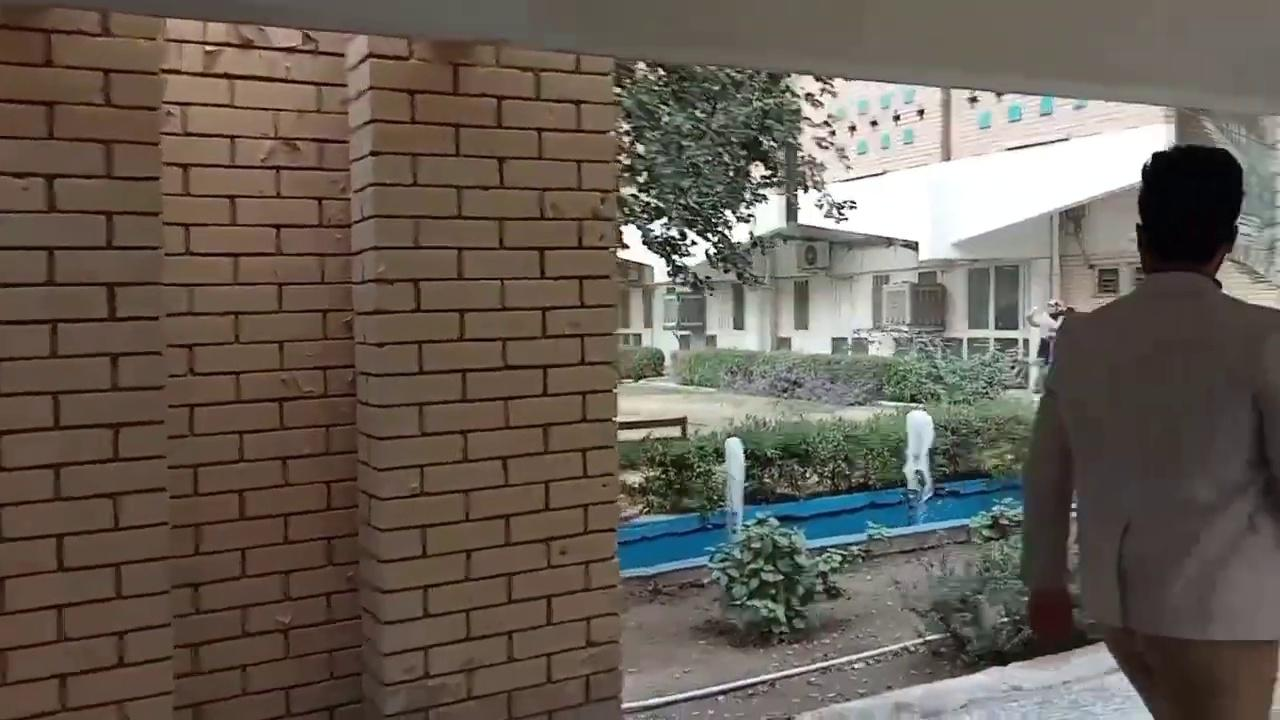fountain: (615, 401, 1095, 716), (615, 403, 1026, 578), (899, 406, 936, 505), (720, 434, 747, 541)
person: (1019, 143, 1279, 719)
tree: (610, 58, 857, 298), (703, 513, 867, 640)
